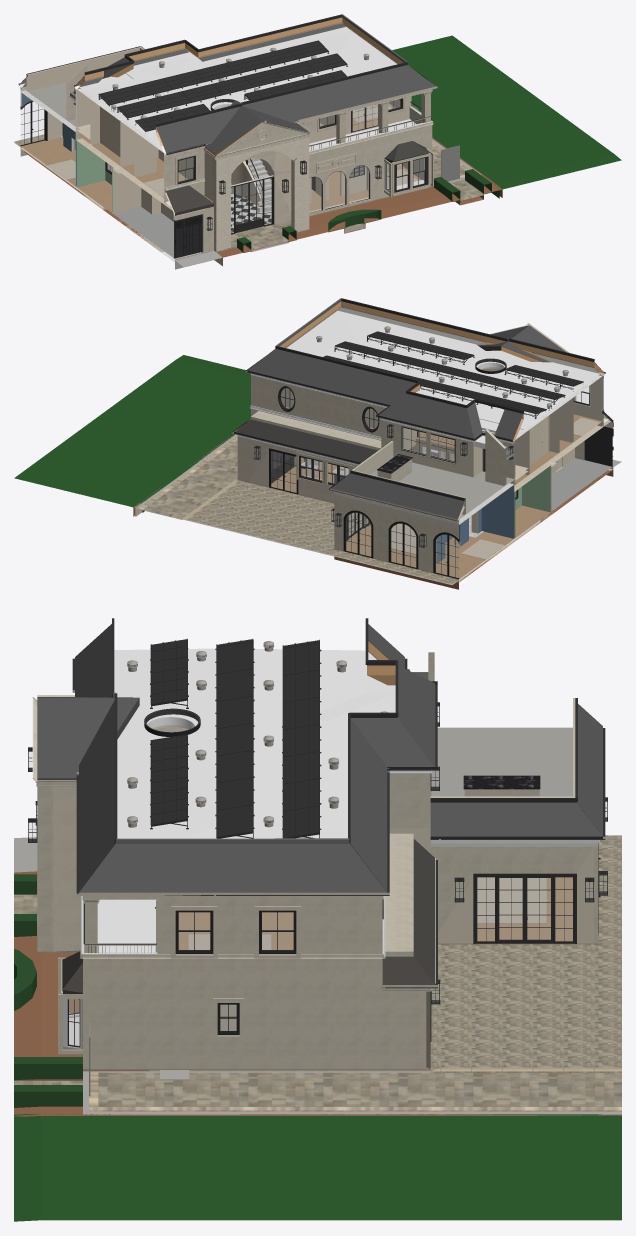
File: elevation-east-eb802a3b9031.glb
3 views of the same model, one above another, from view 1: azimuth 30°, elevation 25°; view 2: azimuth 150°, elevation 25°; view 3: azimuth 270°, elevation 25° (orthographic). The views are drawn at different scales.
Parts seen in each view (by area): view 1: elevation-east-aee2d046b0172b1e, elevation-east-d56ee2a9d54b1fc2, elevation-east-e33d7b378dc851e2, elevation-east-0b9d5d1cd0b2c60f, elevation-east-7cf8e5cfa8b264af, elevation-east-f9d31319fa3bf46f, elevation-east-698abdfdc6fb970d, elevation-east-25c3ff3929e46046, elevation-east-b39baa29700ae605, elevation-east-3b0077416469e01b, elevation-east-2575515a05775d9e, elevation-east-e566fc302b71b574 (+56 smaller); view 2: elevation-east-aee2d046b0172b1e, elevation-east-d56ee2a9d54b1fc2, elevation-east-37d1b262fca80116, elevation-east-c91f911e25c8cae7, elevation-east-3b0077416469e01b, elevation-east-969b861f9850351e, elevation-east-3763e2fb8578d282, elevation-east-2c1fd33d433632d0, elevation-east-5febae1537653d02, elevation-east-0b9d5d1cd0b2c60f, elevation-east-4ce8397b8f5ef0f7, elevation-east-ded88bd99590d377 (+40 smaller); view 3: elevation-east-aee2d046b0172b1e, elevation-east-37d1b262fca80116, elevation-east-d56ee2a9d54b1fc2, elevation-east-2c1fd33d433632d0, elevation-east-a75a0c9c223328ee, elevation-east-af97eba351c411ae, elevation-east-ded88bd99590d377, elevation-east-e706aa16b4547c37, elevation-east-adb6f49a6d2cbec3, elevation-east-0b9d5d1cd0b2c60f, elevation-east-7cf8e5cfa8b264af, elevation-east-3d5fbc3a2a5f9c05 (+41 smaller).
Part boxes in pixels (box(x1,y1,x2,y2)): elevation-east-aee2d046b0172b1e: box(21, 35, 621, 257); elevation-east-d56ee2a9d54b1fc2: box(85, 30, 396, 146); elevation-east-e33d7b378dc851e2: box(242, 65, 435, 121); elevation-east-0b9d5d1cd0b2c60f: box(116, 53, 347, 119); elevation-east-7cf8e5cfa8b264af: box(98, 40, 329, 106); elevation-east-f9d31319fa3bf46f: box(224, 134, 301, 249); elevation-east-698abdfdc6fb970d: box(231, 176, 274, 234); elevation-east-25c3ff3929e46046: box(156, 106, 239, 153); elevation-east-b39baa29700ae605: box(309, 121, 432, 169); elevation-east-3b0077416469e01b: box(21, 137, 407, 206); elevation-east-2575515a05775d9e: box(75, 103, 409, 204); elevation-east-e566fc302b71b574: box(80, 27, 350, 145); elevation-east-aee2d046b0172b1e: box(14, 355, 613, 589); elevation-east-d56ee2a9d54b1fc2: box(286, 310, 599, 429); elevation-east-37d1b262fca80116: box(182, 479, 458, 585); elevation-east-c91f911e25c8cae7: box(247, 348, 415, 405); elevation-east-3b0077416469e01b: box(239, 457, 541, 579); elevation-east-969b861f9850351e: box(334, 494, 460, 572); elevation-east-3763e2fb8578d282: box(251, 375, 385, 436); elevation-east-2c1fd33d433632d0: box(138, 436, 237, 519); elevation-east-5febae1537653d02: box(331, 473, 464, 519); elevation-east-0b9d5d1cd0b2c60f: box(334, 341, 565, 404); elevation-east-4ce8397b8f5ef0f7: box(378, 393, 474, 438); elevation-east-ded88bd99590d377: box(371, 462, 513, 517); elevation-east-aee2d046b0172b1e: box(14, 871, 621, 1221); elevation-east-37d1b262fca80116: box(430, 835, 621, 1072); elevation-east-d56ee2a9d54b1fc2: box(114, 648, 395, 838); elevation-east-2c1fd33d433632d0: box(89, 1072, 621, 1111); elevation-east-a75a0c9c223328ee: box(79, 843, 386, 892); elevation-east-af97eba351c411ae: box(285, 974, 426, 1069); elevation-east-ded88bd99590d377: box(431, 727, 572, 796); elevation-east-e706aa16b4547c37: box(430, 846, 593, 943); elevation-east-adb6f49a6d2cbec3: box(157, 899, 382, 953); elevation-east-0b9d5d1cd0b2c60f: box(215, 639, 254, 838); elevation-east-7cf8e5cfa8b264af: box(282, 639, 321, 838); elevation-east-3d5fbc3a2a5f9c05: box(473, 873, 576, 943).
Bounding box in the file's own units: 29.52 × 8.45 × 19.78.
78 materials, 17 textured.
